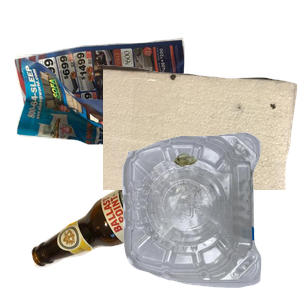glass: (29, 150, 238, 300)
paper: (12, 31, 196, 204)
plastic: (119, 130, 300, 300)
trash: (103, 62, 300, 242)
